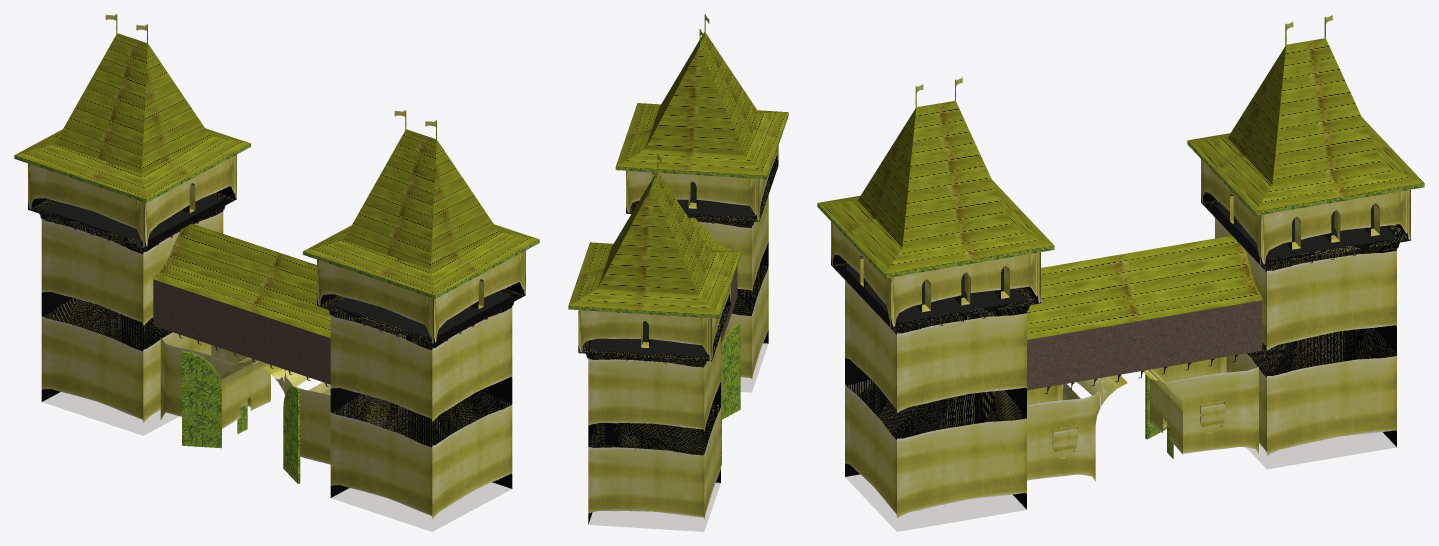
Rendered from Vallusanische_Tor.dae.
The picture shows the model from 3 angles, left to right: view 1: azimuth 30°, elevation 25°; view 2: azimuth 150°, elevation 25°; view 3: azimuth 270°, elevation 25°; orthographic projection. The views are drawn at different scales.
Parts seen in each view (by area): view 1: Gruppe_11 (×2), Group2 (×2), Gruppe_9, Gruppe_4, Komponente_3 (×2); view 2: Gruppe_11 (×2), Group2 (×2), Komponente_3, Gruppe_9; view 3: Gruppe_11 (×2), Group2 (×2), Gruppe_9, Gruppe_4.
Boxes of the visible parts, left/top/right/bottom form: Gruppe_11 (×2): left=28, top=154, right=525, bottom=531; Group2 (×2): left=14, top=33, right=539, bottom=298; Gruppe_9: left=152, top=223, right=330, bottom=384; Gruppe_4: left=160, top=337, right=330, bottom=464; Komponente_3 (×2): left=182, top=351, right=300, bottom=483; Gruppe_11 (×2): left=578, top=145, right=778, bottom=531; Group2 (×2): left=568, top=31, right=788, bottom=318; Komponente_3: left=721, top=324, right=740, bottom=419; Gruppe_9: left=689, top=217, right=737, bottom=344; Gruppe_11 (×2): left=831, top=159, right=1410, bottom=531; Group2 (×2): left=817, top=38, right=1424, bottom=278; Gruppe_9: left=1027, top=235, right=1262, bottom=390; Gruppe_4: left=1027, top=357, right=1258, bottom=481.
Size of the model in its own units: 20.16 by 31.78 by 23.67.
